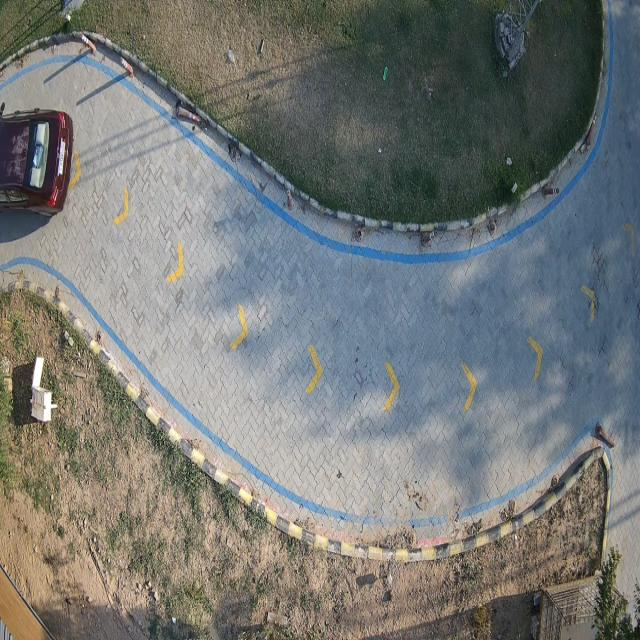car: (0, 110, 76, 219)
